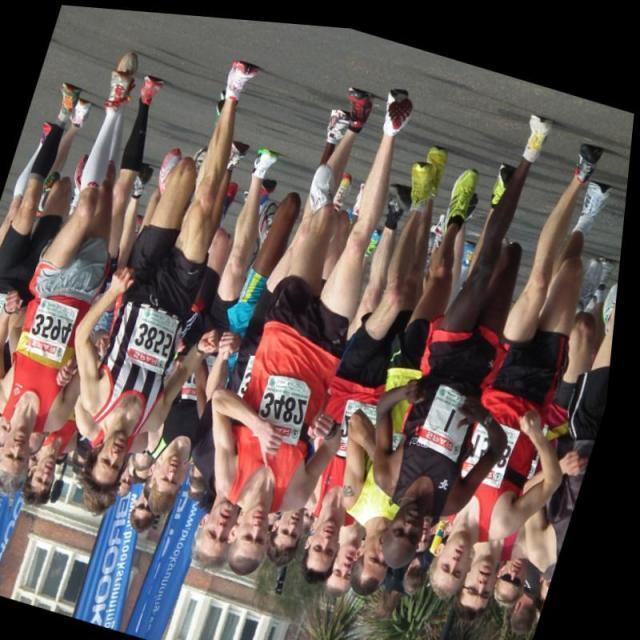dorsal: (254, 356, 330, 448), (417, 368, 498, 454), (125, 296, 191, 378), (24, 288, 90, 363)
